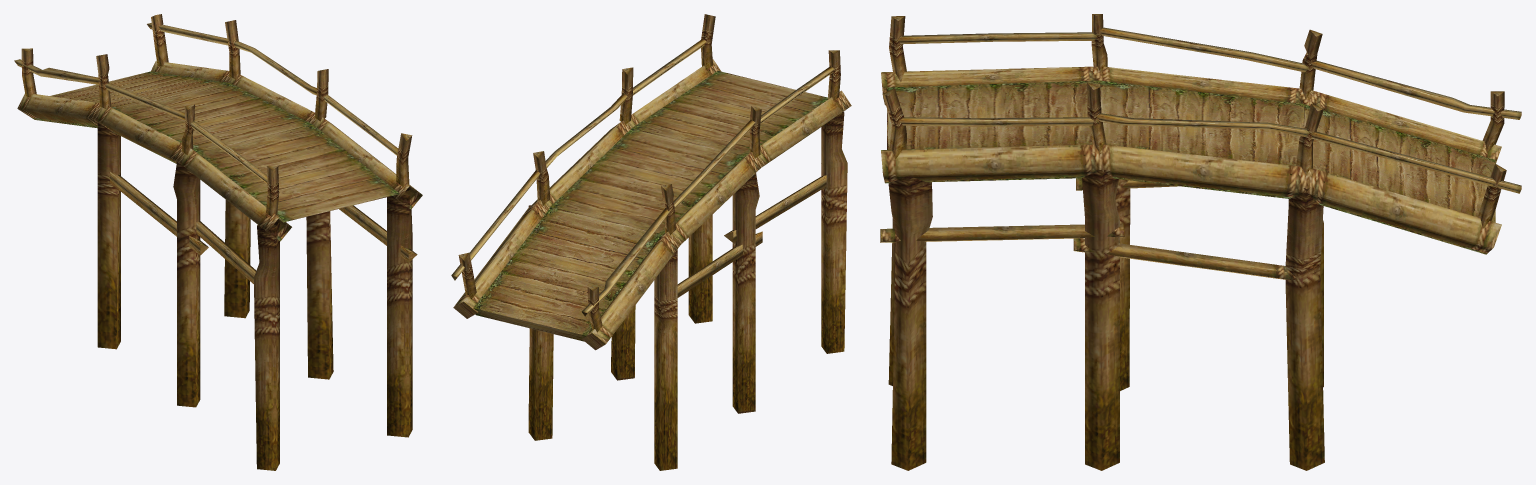
Rendered from Dingqingchuan_wujian_04_2.FBX.
The picture shows the model from 3 angles, left to right: view 1: azimuth 30°, elevation 25°; view 2: azimuth 150°, elevation 25°; view 3: azimuth 270°, elevation 25°; orthographic projection. The views are drawn at different scales.
Visible parts, largest first — view 1: Box16; view 2: Box16; view 3: Box16.
Part boxes in pixels (x1,y1,x2,y2): Box16: (14,14,422,470); Box16: (451,14,851,470); Box16: (880,14,1521,470).
Size of the model in its own units: 8.09 by 14.93 by 22.93.
